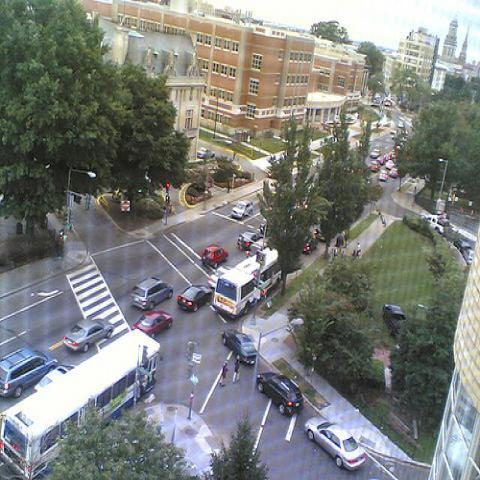bus: (2, 326, 162, 474), (213, 246, 284, 318)
car: (306, 417, 366, 472), (0, 347, 59, 398), (256, 370, 304, 418), (61, 318, 115, 354), (129, 275, 174, 311), (220, 327, 258, 367), (131, 310, 174, 338), (177, 285, 213, 312), (201, 243, 228, 269), (236, 230, 264, 252), (379, 169, 389, 182)
truck: (382, 302, 406, 340), (231, 195, 254, 220), (426, 215, 449, 234)
